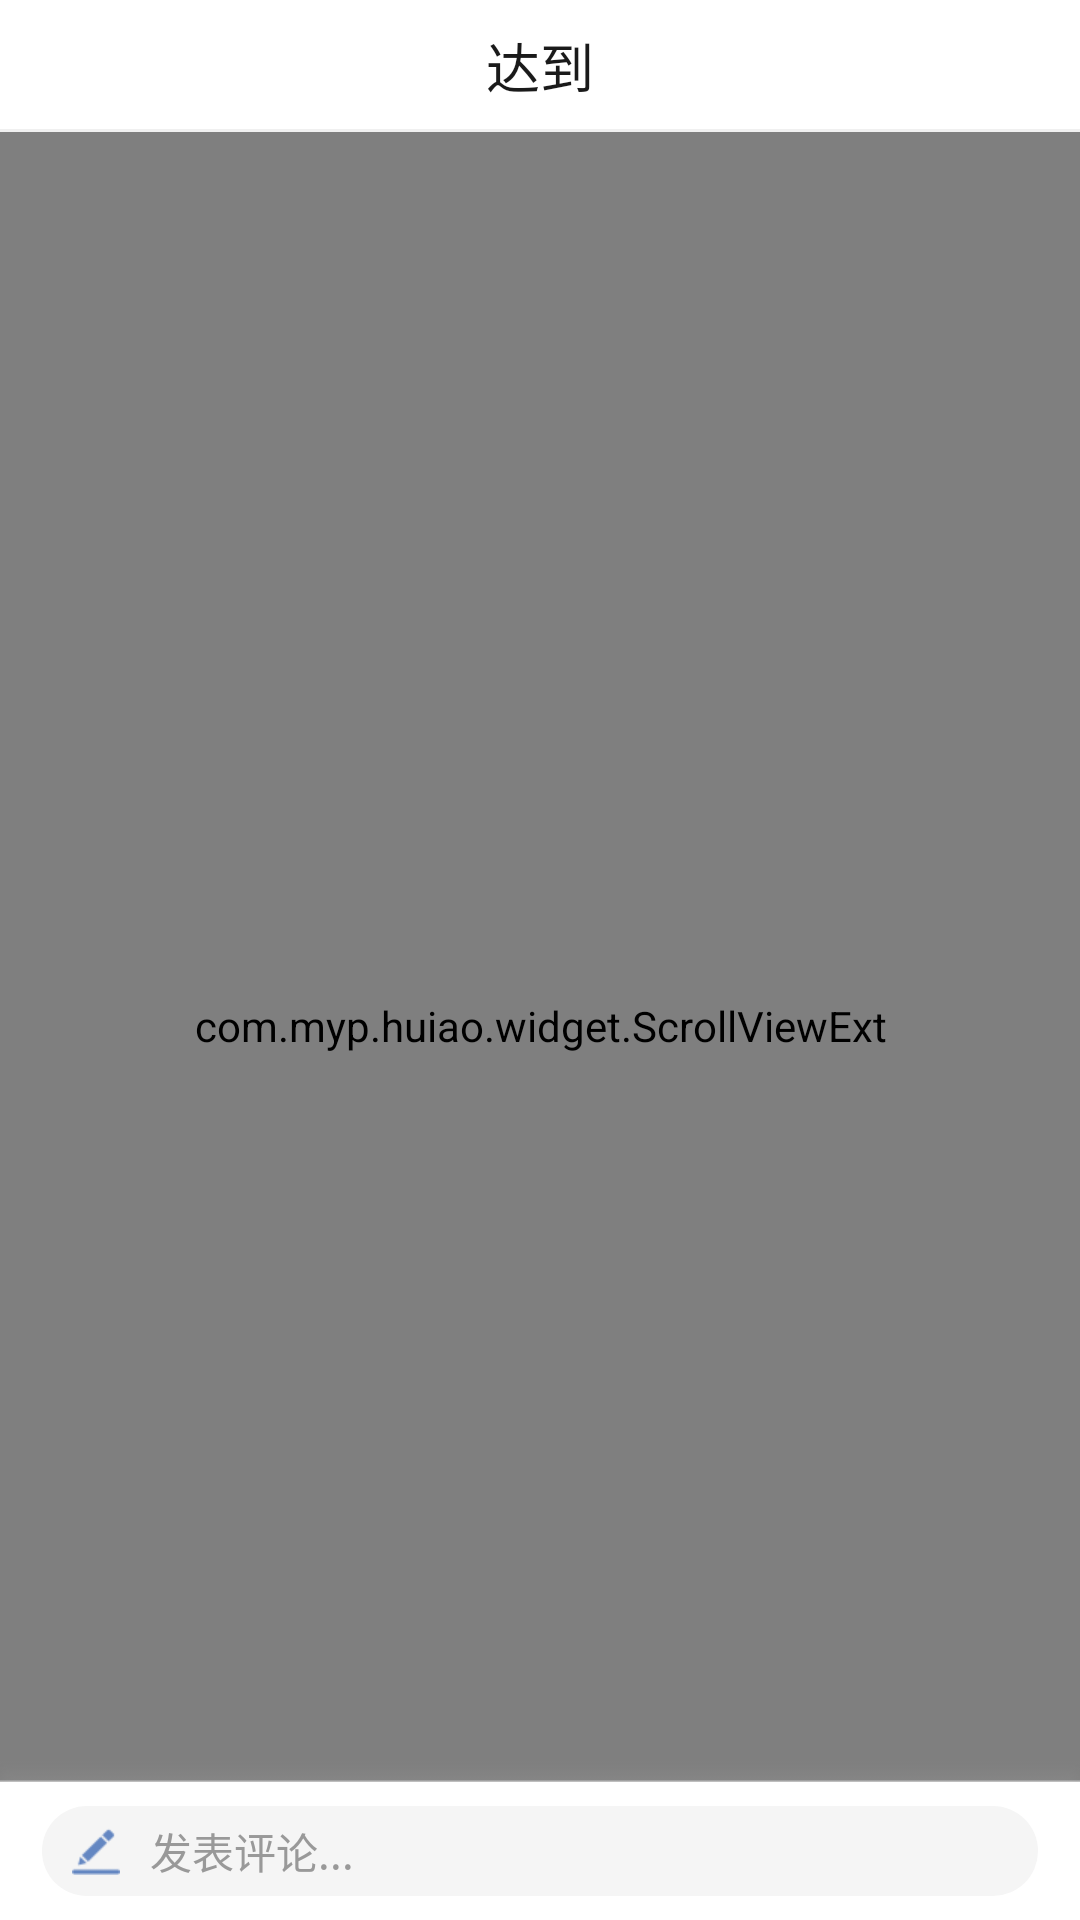

Screen size 1080w x 1920h. Icon name, then its box in pixels as bbox=(x1, y1, x2, y2):
pinglun: bbox=(72, 1829, 120, 1875)
